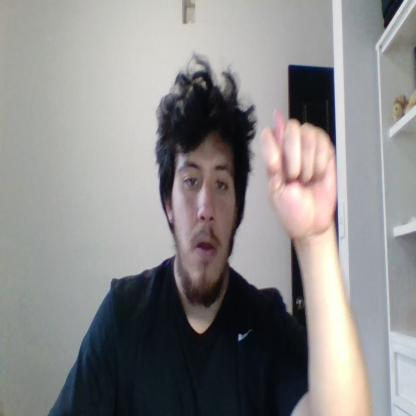T: (262, 109, 338, 239)
